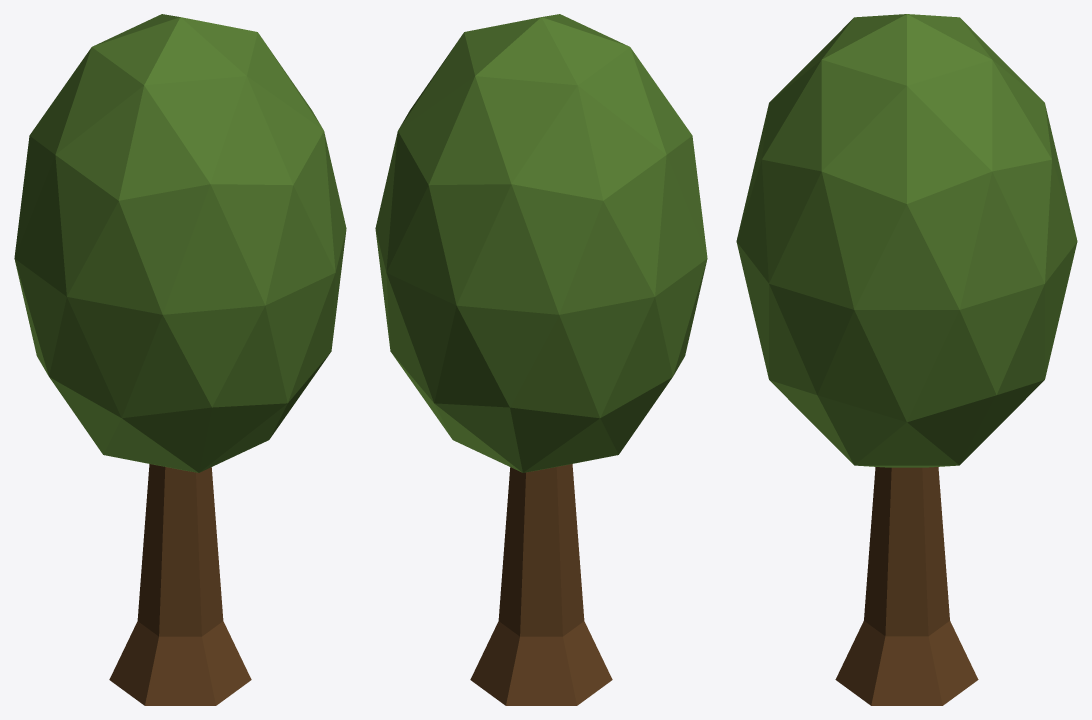
The model's file is Tree2.fbx.
The picture shows the model from 3 angles, left to right: view 1: azimuth 30°, elevation 25°; view 2: azimuth 150°, elevation 25°; view 3: azimuth 270°, elevation 25°; orthographic projection.
Parts seen in each view (by area): view 1: Cylinder.004; view 2: Cylinder.004; view 3: Cylinder.004.
Boxes of the visible parts, x1=… form: Cylinder.004: x1=14, y1=14, x2=346, y2=705; Cylinder.004: x1=375, y1=14, x2=707, y2=705; Cylinder.004: x1=736, y1=14, x2=1077, y2=705.
Bounding box in the file's own units: 3.31 × 7.5 × 3.48.
